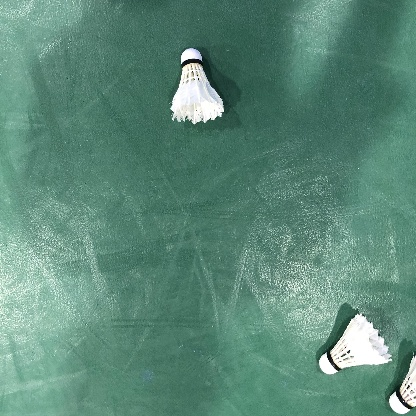ball_single: (319, 314, 392, 374), (171, 48, 224, 124), (389, 354, 416, 414)
